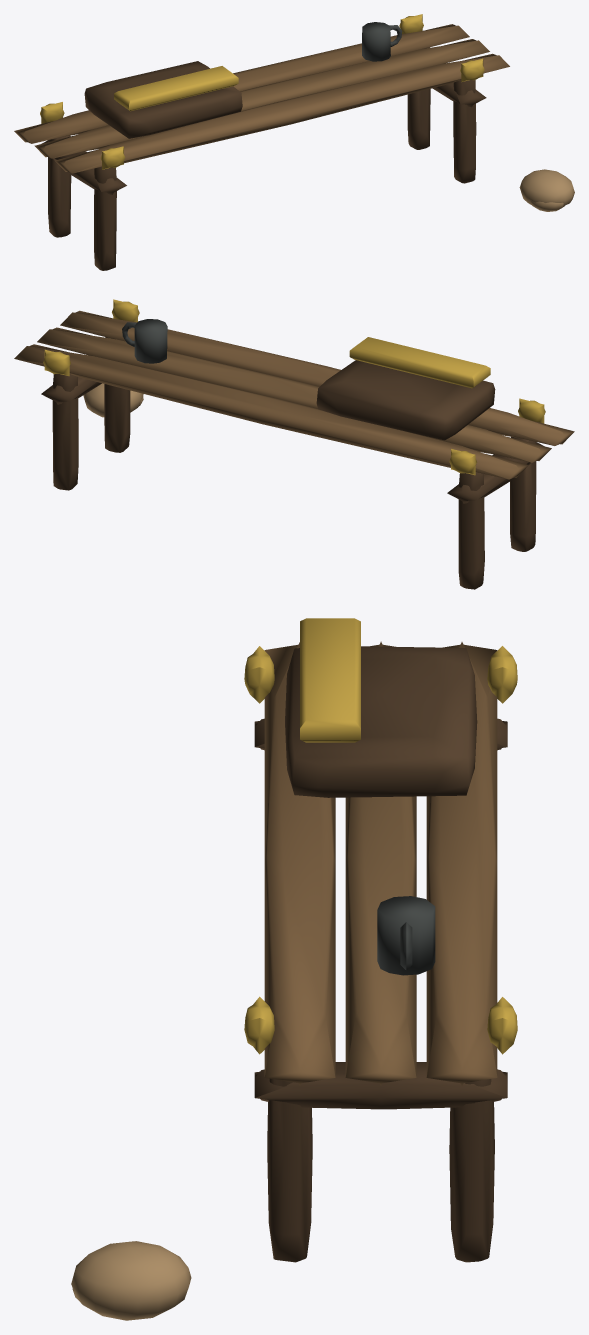
Rendered from crew_bench_a_lod1.glb.
3 views of the same model, one above another, from view 1: azimuth 30°, elevation 25°; view 2: azimuth 150°, elevation 25°; view 3: azimuth 270°, elevation 25° (orthographic). The views are drawn at different scales.
Parts seen in each view (by area): view 1: Surface.001; view 2: Surface.001; view 3: Surface.001.
Part boxes in pixels (box(x1,y1,x2,y2)): Surface.001: box(14, 14, 574, 270); Surface.001: box(14, 299, 574, 589); Surface.001: box(71, 618, 517, 1320).
Size of the model in its own units: 2.12 by 0.7219 by 0.8822.
